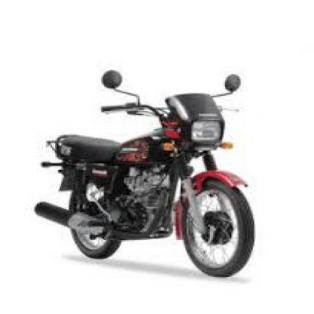Motocicleta: (24, 63, 270, 280)
